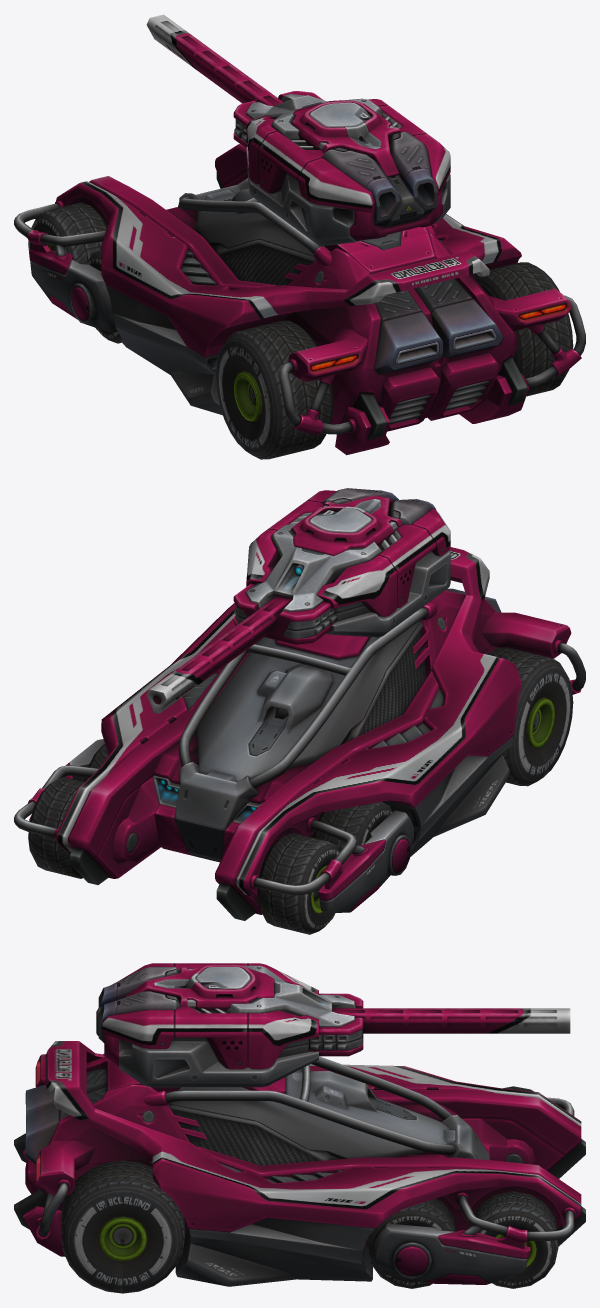
File: GT_RailgunDictator.glb
The picture shows the model from 3 angles, top to bottom: view 1: azimuth 30°, elevation 25°; view 2: azimuth 150°, elevation 25°; view 3: azimuth 270°, elevation 25°; orthographic projection. The views are drawn at different scales.
Parts seen in each view (by area): view 1: hull, turret, lwheel_3, rwheel_3, barrel, lwheel_1; view 2: hull, turret, lwheel_3, lwheel_1, barrel, rwheel_1, lwheel_2; view 3: hull, turret, rwheel_3, barrel, rwheel_1, rwheel_2.
Part boxes in pixels (x1=…): hull: x1=14, y1=144, x2=585, y2=455; turret: x1=233, y1=91, x2=450, y2=245; lwheel_3: x1=215, y1=320, x2=333, y2=459; rwheel_3: x1=472, y1=262, x2=573, y2=396; barrel: x1=146, y1=14, x2=283, y2=106; lwheel_1: x1=28, y1=202, x2=107, y2=264; hull: x1=14, y1=547, x2=585, y2=920; turret: x1=233, y1=488, x2=450, y2=644; lwheel_3: x1=487, y1=647, x2=573, y2=786; lwheel_1: x1=257, y1=833, x2=339, y2=934; barrel: x1=146, y1=595, x2=292, y2=713; rwheel_1: x1=28, y1=777, x2=84, y2=878; lwheel_2: x1=313, y1=802, x2=392, y2=851; hull: x1=14, y1=1041, x2=585, y2=1286; turret: x1=96, y1=963, x2=363, y2=1087; rwheel_3: x1=61, y1=1160, x2=184, y2=1293; barrel: x1=332, y1=1008, x2=570, y2=1033; rwheel_1: x1=469, y1=1191, x2=558, y2=1288; rwheel_2: x1=367, y1=1198, x2=456, y2=1288.
Size of the model in its own units: 391 by 310 by 640.
Materials: 3 (3 with a texture image).
